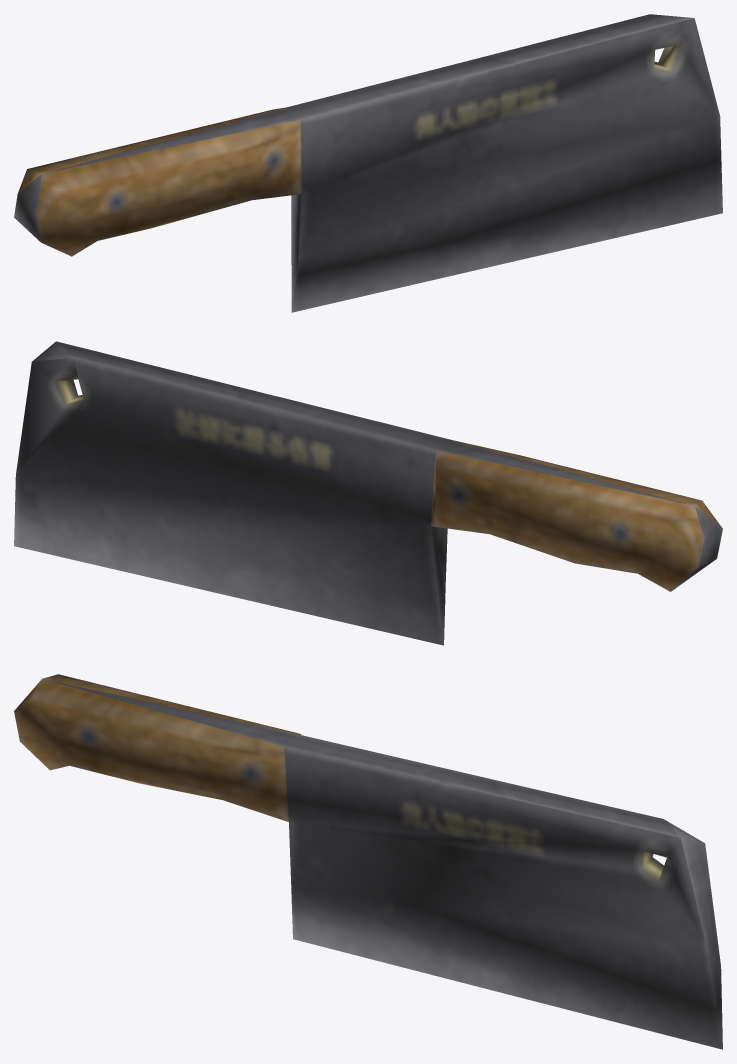
File: Knife.fbx
3 views of the same model, one above another, from view 1: azimuth 30°, elevation 25°; view 2: azimuth 150°, elevation 25°; view 3: azimuth 330°, elevation 25° (orthographic).
Visible parts, largest first — view 1: Knife; view 2: Knife; view 3: Knife.
Boxes of the visible parts, <box> form: Knife: <box>14,14,722,312</box>; Knife: <box>14,341,722,645</box>; Knife: <box>14,674,722,1049</box>.
Bounding box in the file's own units: 112 × 32.26 × 8.28.
1 material, 1 textured.
